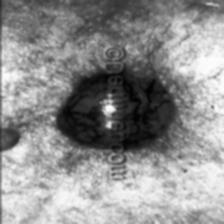Potentially Malignant Skin Tumors: (54, 71, 106, 159), (122, 74, 170, 154)
